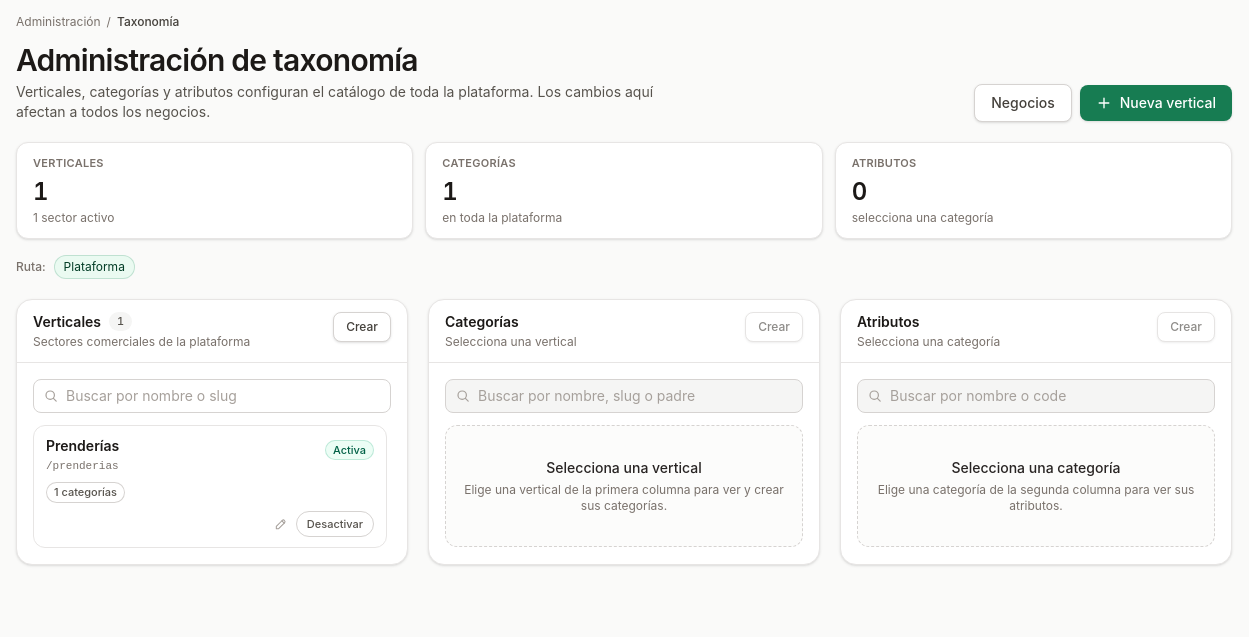
Panel de taxonomía (UI) › desactiva una vertical con PATCH y la marca como inactiva
Expected: the heading "Administración de taxonomía" is shown, [16, 42, 418, 78]
Expected: the text "Prenderías" is shown, [46, 436, 119, 456]
What coordinates should you click on to do the following:
click the button "Desactivar"
I would click on:
 (335, 524)
Its box is [296, 510, 374, 537].
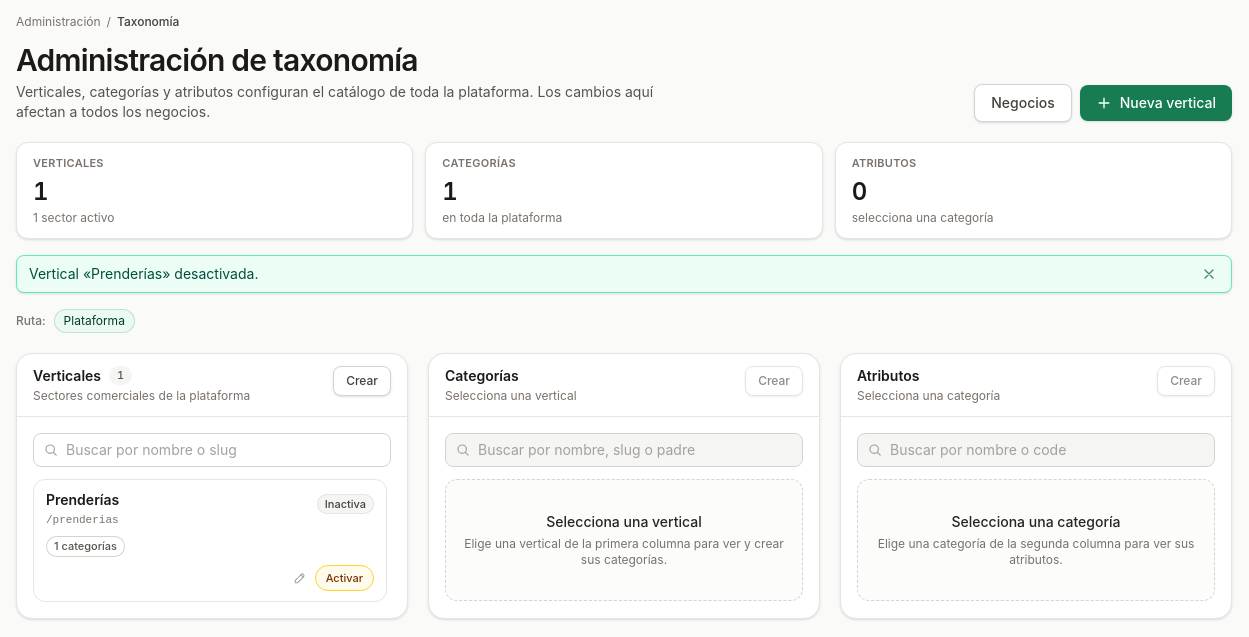
Now the text "Inactiva" is shown, box [317, 494, 374, 514]
